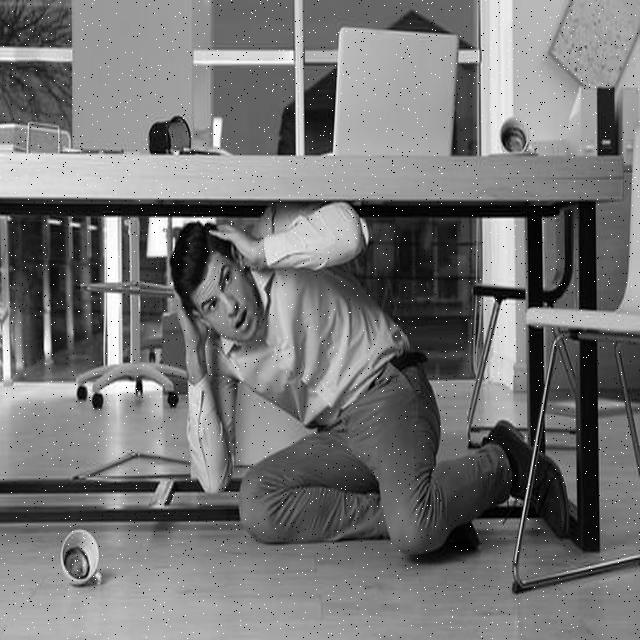Fear: (196, 255, 258, 342)
